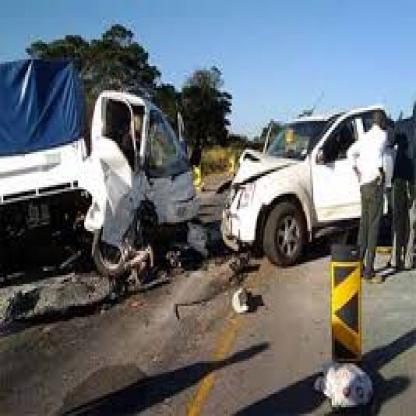accident: (1, 36, 355, 302)
